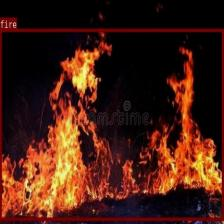fire: (0, 27, 223, 219)
